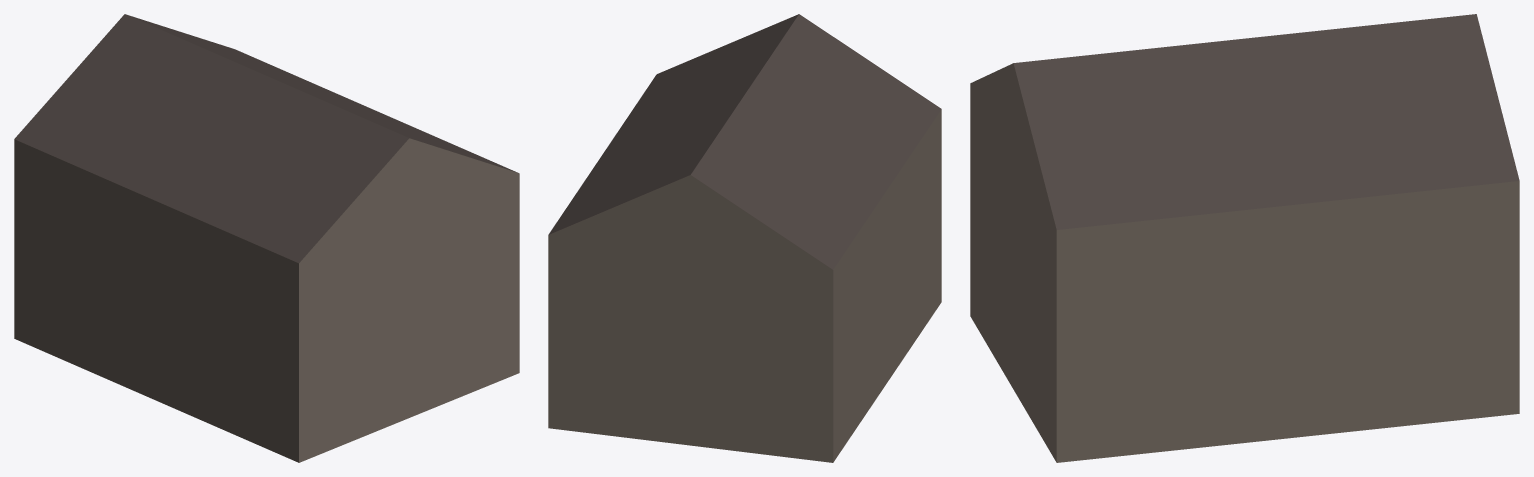
The picture shows the model from 3 angles, left to right: view 1: azimuth 30°, elevation 25°; view 2: azimuth 150°, elevation 25°; view 3: azimuth 270°, elevation 25°; orthographic projection. The views are drawn at different scales.
Visible parts, largest first — view 1: HP-w1376988670; view 2: HP-w1376988670; view 3: HP-w1376988670.
Boxes of the visible parts, left/top/right/bottom form: HP-w1376988670: left=14, top=14, right=519, bottom=462; HP-w1376988670: left=548, top=14, right=941, bottom=462; HP-w1376988670: left=970, top=14, right=1519, bottom=462.
Size of the model in its own units: 10.82 by 8.41 by 12.83.
